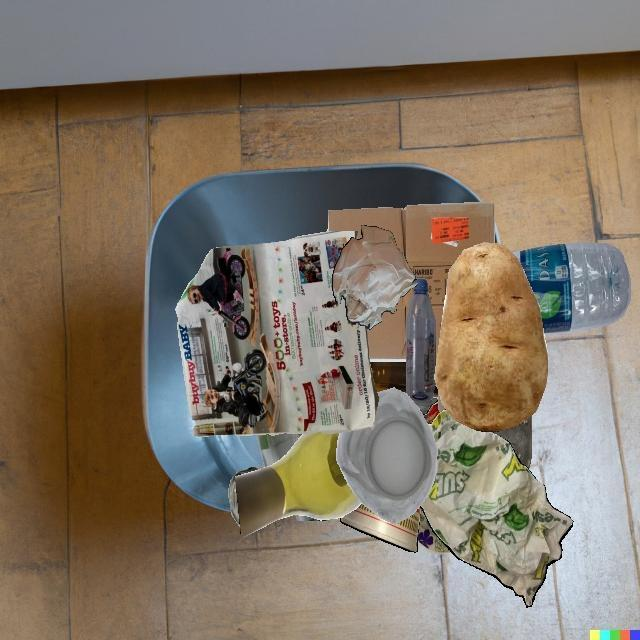biowaste: (434, 242, 548, 432)
cardboard: (327, 203, 495, 362), (417, 508, 451, 554)
glass: (235, 432, 362, 539), (228, 465, 265, 527), (257, 433, 303, 467), (370, 361, 407, 394)
paper: (175, 231, 378, 437), (419, 410, 573, 607), (332, 225, 418, 329)
plastic: (336, 388, 437, 525), (512, 243, 631, 335), (435, 362, 492, 432), (406, 278, 435, 401), (492, 415, 531, 468)
trash: (340, 503, 421, 552), (422, 399, 439, 425)
